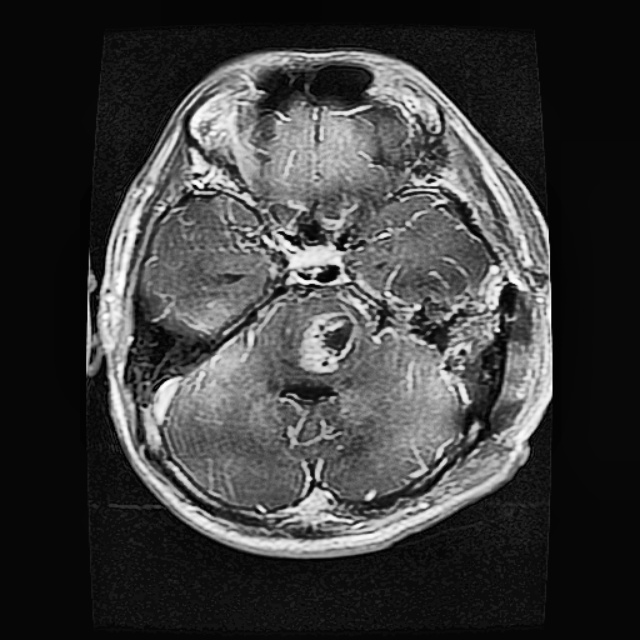Pituitary: (295, 312, 358, 373)
